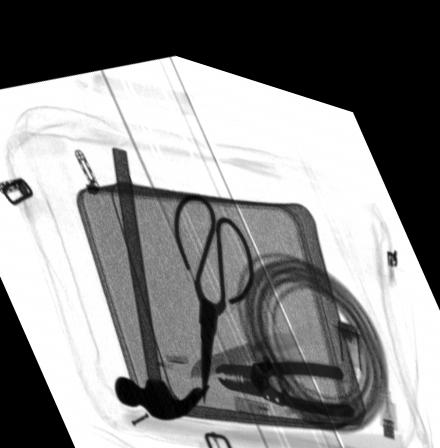Hammer: (110, 140, 207, 412)
Knife: (187, 301, 322, 368)
Pliers: (214, 341, 353, 397)
Scissors: (169, 178, 256, 394)
